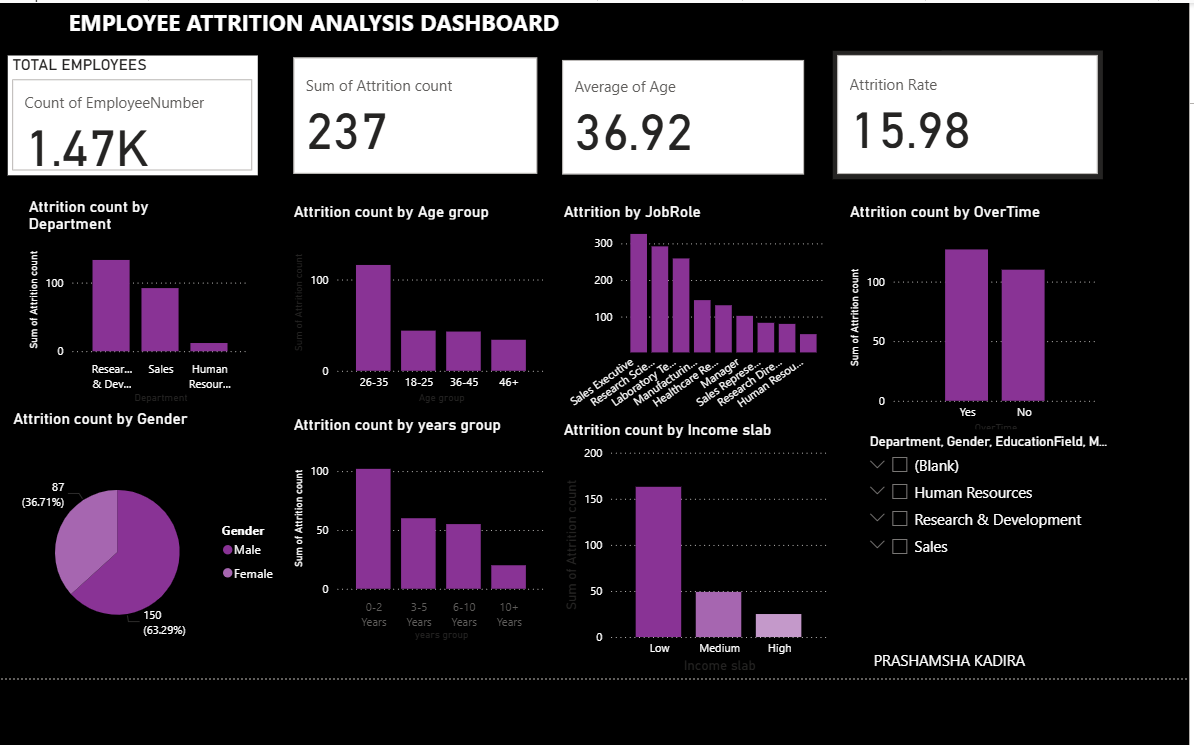

The dashboard page shown, as its layout file describes it:
{"tool":"powerbi","page":{"name":"Page 1","canvas":[1279,726],"ordinal":0},"visuals":[{"type":"cardVisual","title":"TOTAL EMPLOYEES","fields":{"Data":["CountNonNull(WA_Fn-UseC_-HR-Employee-Attriti.EmployeeNumber)"]},"box":[9.4,56.4,268.8,129],"z":0},{"type":"cardVisual","fields":{"Data":["Sum(WA_Fn-UseC_-HR-Employee-Attriti.Attrition count)"]},"box":[311.8,53.8,272.8,135.7],"z":1000},{"type":"cardVisual","fields":{"Data":["Avg(WA_Fn-UseC_-HR-Employee-Attriti.Age)"]},"box":[600.7,56.4,270.1,133],"z":2000},{"type":"cardVisual","fields":{"Data":["WA_Fn-UseC_-HR-Employee-Attriti.Attrition Rate"]},"box":[896.3,51.1,290.3,138.4],"z":3000},{"type":"clusteredColumnChart","title":" Attrition count by Department","fields":{"Category":["WA_Fn-UseC_-HR-Employee-Attriti.Department"],"Y":["Sum(WA_Fn-UseC_-HR-Employee-Attriti.Attrition count)"]},"box":[26.9,208.3,247.3,227.1],"z":4000},{"type":"clusteredColumnChart","title":" Attrition by JobRole","fields":{"Category":["WA_Fn-UseC_-HR-Employee-Attriti.JobRole"],"Y":["CountNonNull(WA_Fn-UseC_-HR-Employee-Attriti.Attrition)"]},"box":[602,213.7,291.6,254],"z":5000},{"type":"pieChart","title":" Attrition count by Gender","fields":{"Category":["WA_Fn-UseC_-HR-Employee-Attriti.Gender"],"Y":["Sum(WA_Fn-UseC_-HR-Employee-Attriti.Attrition count)"]},"box":[9.4,435.4,302.3,290.3],"z":6000},{"type":"clusteredColumnChart","title":" Attrition count by Age group","fields":{"Category":["WA_Fn-UseC_-HR-Employee-Attriti.Age group"],"Y":["Sum(WA_Fn-UseC_-HR-Employee-Attriti.Attrition count)"]},"box":[311.8,213.7,280.8,221.7],"z":7000},{"type":"clusteredColumnChart","title":"Attrition count by Income slab","fields":{"Category":["WA_Fn-UseC_-HR-Employee-Attriti.Income slab"],"Y":["Sum(WA_Fn-UseC_-HR-Employee-Attriti.Attrition count)"]},"box":[602,448.8,294.3,276.8],"z":8000},{"type":"clusteredColumnChart","title":" Attrition count by years group","fields":{"Category":["WA_Fn-UseC_-HR-Employee-Attriti.years group"],"Y":["Sum(WA_Fn-UseC_-HR-Employee-Attriti.Attrition count)"]},"box":[311.8,443.4,280.8,247.3],"z":9000},{"type":"clusteredColumnChart","title":"Attrition count by OverTime","fields":{"Y":["Sum(WA_Fn-UseC_-HR-Employee-Attriti.Attrition count)"],"Category":["WA_Fn-UseC_-HR-Employee-Attriti.OverTime"]},"box":[909.7,213.7,276.8,254],"z":10000},{"type":"slicer","fields":{"Values":["WA_Fn-UseC_-HR-Employee-Attriti.Department","WA_Fn-UseC_-HR-Employee-Attriti.Gender","WA_Fn-UseC_-HR-Employee-Attriti.EducationField","WA_Fn-UseC_-HR-Employee-Attriti.MaritalStatus"]},"box":[923.2,458.2,292.9,215],"z":11000},{"type":"textbox","box":[69.9,0,943.3,51.1],"z":11001},{"type":"textbox","box":[935.3,690.7,280.8,34.9],"z":11002}]}

Visuals, with their boxes on the page's 1279x726 design canvas (x1, y1, x2, y2). These are canvas units, not pixel positions in the 1194x745 screenshot, which may show the page scaled, cropped or inside an application window:
"TOTAL EMPLOYEES" cardVisual: x1=9 y1=56 x2=278 y2=185
cardVisual - Sum(WA_Fn-UseC_-HR-Employee-Attriti.Attrition count): x1=312 y1=54 x2=585 y2=190
cardVisual - Avg(WA_Fn-UseC_-HR-Employee-Attriti.Age): x1=601 y1=56 x2=871 y2=189
cardVisual - WA_Fn-UseC_-HR-Employee-Attriti.Attrition Rate: x1=896 y1=51 x2=1187 y2=190
" Attrition count by Department" clusteredColumnChart: x1=27 y1=208 x2=274 y2=435
" Attrition by JobRole" clusteredColumnChart: x1=602 y1=214 x2=894 y2=468
" Attrition count by Gender" pieChart: x1=9 y1=435 x2=312 y2=726
" Attrition count by Age group" clusteredColumnChart: x1=312 y1=214 x2=593 y2=435
"Attrition count by Income slab" clusteredColumnChart: x1=602 y1=449 x2=896 y2=726
" Attrition count by years group" clusteredColumnChart: x1=312 y1=443 x2=593 y2=691
"Attrition count by OverTime" clusteredColumnChart: x1=910 y1=214 x2=1186 y2=468
slicer - WA_Fn-UseC_-HR-Employee-Attriti.Department x WA_Fn-UseC_-HR-Employee-Attriti.Gender: x1=923 y1=458 x2=1216 y2=673
textbox: x1=70 y1=0 x2=1013 y2=51
textbox: x1=935 y1=691 x2=1216 y2=726
